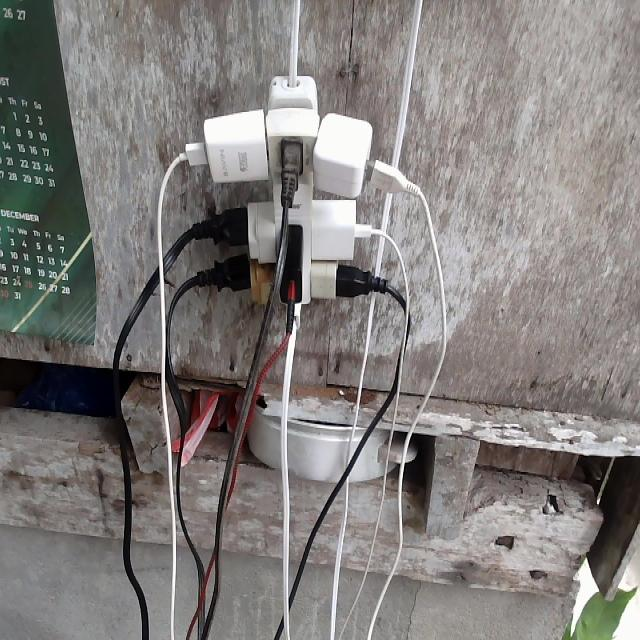-: (154, 62, 426, 350)
